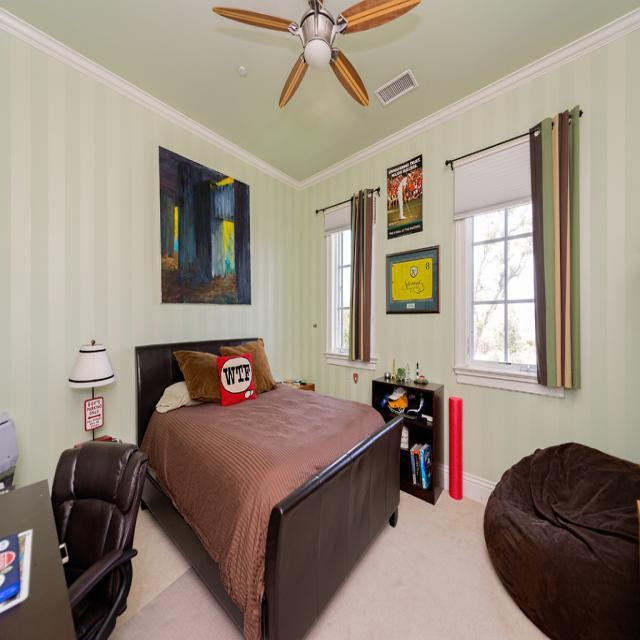fan_off: (209, 0, 426, 108)
